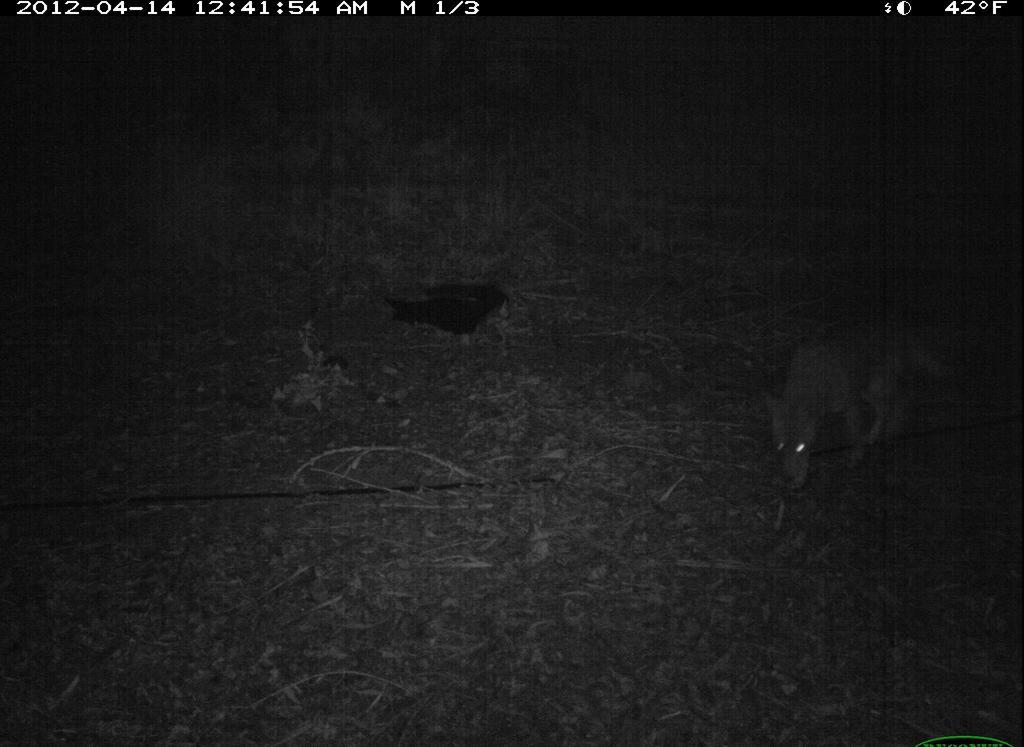coyote: (748, 308, 959, 504)
